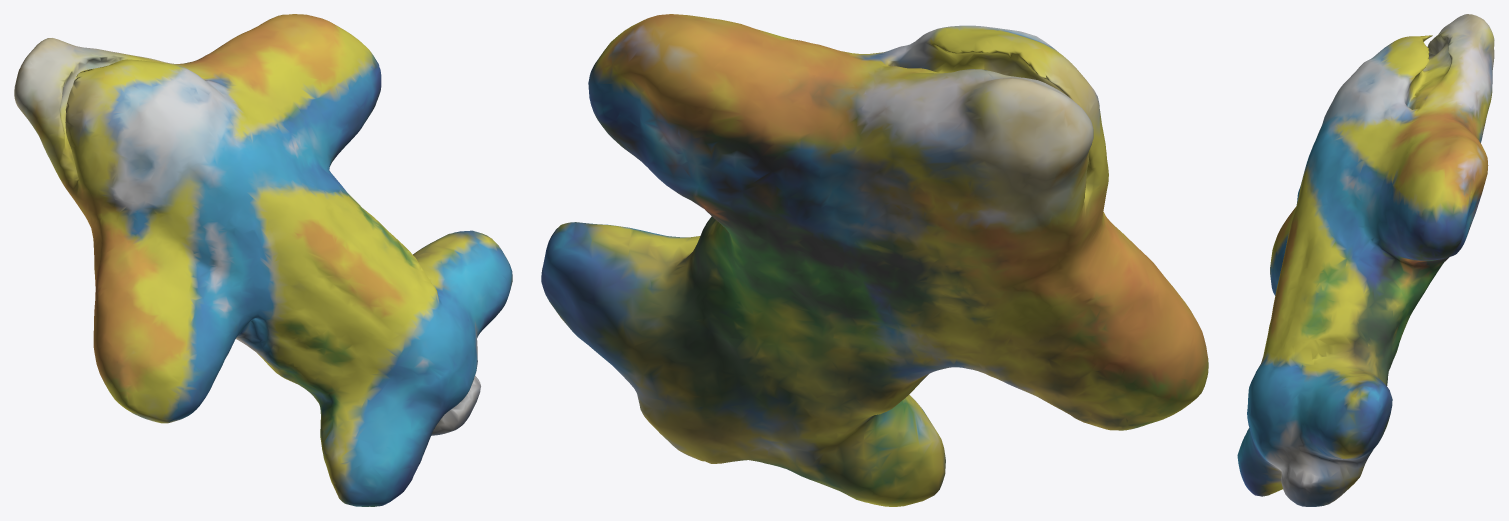
The picture shows the model from 3 angles, left to right: view 1: azimuth 30°, elevation 25°; view 2: azimuth 150°, elevation 25°; view 3: azimuth 270°, elevation 25°; orthographic projection. The views are drawn at different scales.
Parts seen in each view (by area): view 1: geometry_0; view 2: geometry_0; view 3: geometry_0.
Boxes of the visible parts, x1=… form: geometry_0: x1=14, y1=14, x2=512, y2=506; geometry_0: x1=541, y1=14, x2=1208, y2=506; geometry_0: x1=1237, y1=14, x2=1494, y2=506.
Size of the model in its own units: 2 by 1.89 by 1.14.
